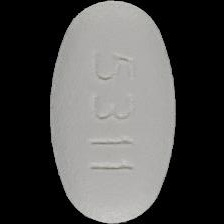55154-6177: (0, 0, 224, 224)
